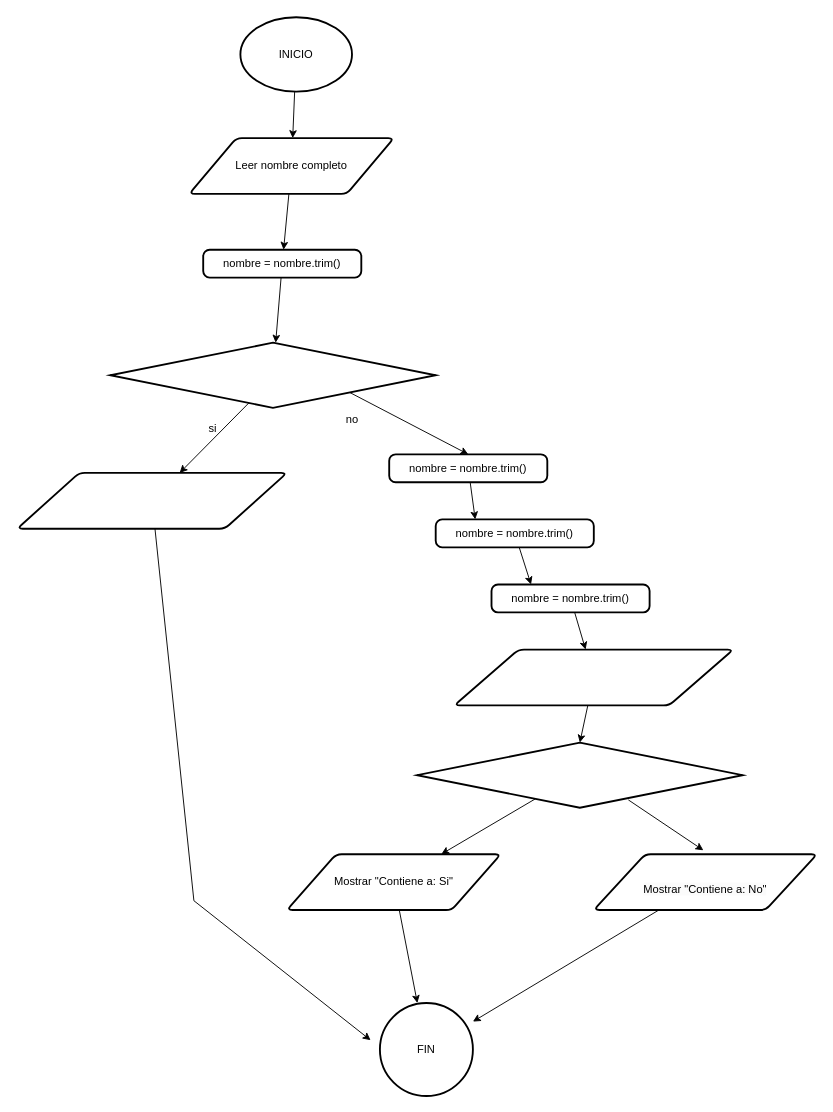
The diagram is 833 pixels wide and 1112 high, and some of its shapes have lost their labels. The shapes that lost their labels are listed below. From the top down, each one's box as (x1, y1, x2, y2) in pixels, then its label:
(109, 341, 436, 408): ¿nombre.isEmpty?
(16, 472, 287, 529): mostrar "error: nombre vacio"
(453, 648, 734, 706): Nostrar en mayusculas y l
(416, 741, 743, 808): ¿contieneA?
